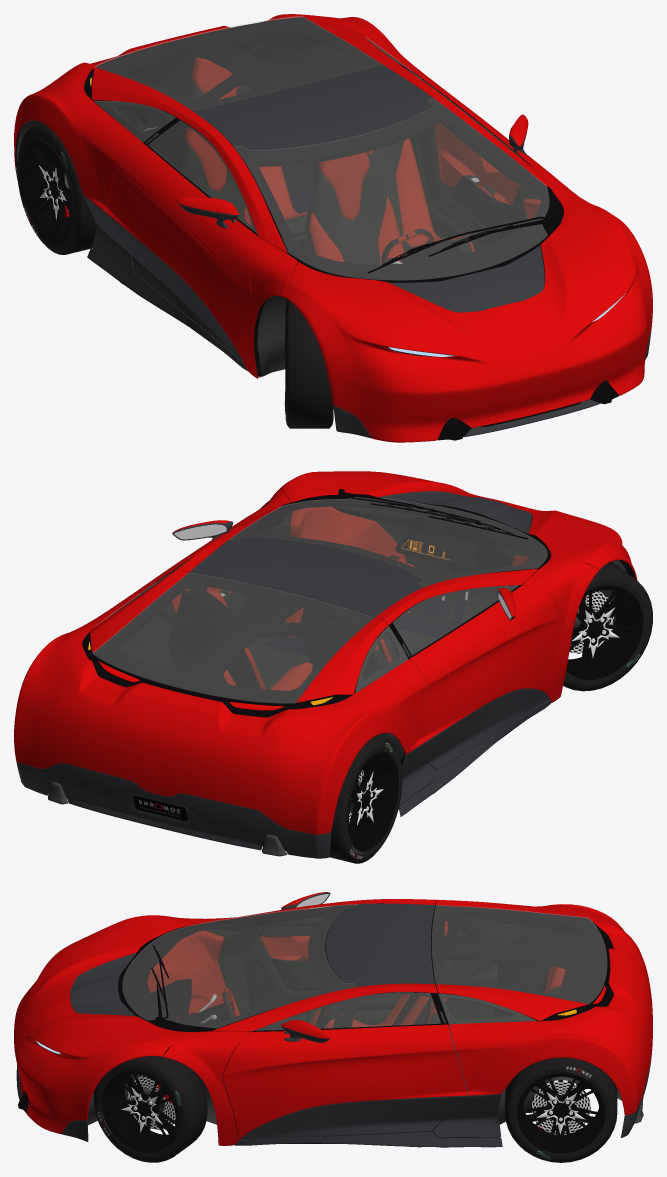
The model's file is CarConcept.glb.
3 renders of one model, top to bottom at view 1: azimuth 30°, elevation 25°; view 2: azimuth 150°, elevation 25°; view 3: azimuth 270°, elevation 25°, orthographic. The views are drawn at different scales.
Parts seen in each view (by area): view 1: BodyRearPanelsColor1, BodyWindshield, BodyWindshieldGasket, BodyRoofPanel, InteriorDashSides, InteriorDashMid, InteriorSeatsColor2, object 21, WheelFrontLRim, BodyUnderside, InteriorMid, InteriorSteeringDash; view 2: BodyRearPanelsColor1, BodyWindshield, BodyRoofPanel, BodyWindshieldGasket, InteriorDashMid, WheelFrontLRim, object 21, InteriorDashSides, InteriorSeatsColor2, InteriorFloormats, InteriorSteeringDash, BodyUnderside (+3 smaller); view 3: BodyRearPanelsColor1, BodyWindshield, BodyRoofPanel, BodyWindshieldGasket, object 21, WheelFrontLRim, InteriorDashMid, InteriorDashSides, InteriorMid, WheelFrontLBrakeDisc, BodyUnderside, InteriorSeatsColor2 (+1 smaller).
Boxes of the visible parts, x1,y1,x2,y2 form: BodyRearPanelsColor1: (14, 14, 652, 442); BodyWindshield: (94, 16, 549, 280); BodyWindshieldGasket: (16, 17, 618, 440); BodyRoofPanel: (15, 65, 651, 438); InteriorDashSides: (185, 57, 540, 349); InteriorDashMid: (15, 33, 526, 281); InteriorSeatsColor2: (180, 78, 472, 264); object 21: (17, 124, 333, 428); WheelFrontLRim: (20, 140, 285, 414); BodyUnderside: (16, 78, 596, 430); InteriorMid: (93, 173, 557, 376); InteriorSteeringDash: (404, 239, 465, 263); BodyRearPanelsColor1: (14, 471, 637, 834); BodyWindshield: (92, 497, 547, 703); BodyRoofPanel: (16, 491, 550, 858); BodyWindshieldGasket: (82, 489, 635, 753); InteriorDashMid: (48, 502, 528, 850); WheelFrontLRim: (347, 585, 643, 851); object 21: (260, 501, 652, 863); InteriorDashSides: (171, 506, 528, 690); InteriorSeatsColor2: (246, 628, 437, 689); InteriorFloormats: (269, 598, 467, 659); InteriorSteeringDash: (395, 533, 462, 566); BodyUnderside: (48, 560, 626, 856); BodyRearPanelsColor1: (14, 892, 652, 1145); BodyWindshield: (122, 904, 606, 1030); BodyRoofPanel: (16, 892, 652, 1147); BodyWindshieldGasket: (18, 901, 613, 1143); object 21: (93, 1054, 617, 1162); WheelFrontLRim: (102, 1070, 605, 1153); InteriorDashMid: (118, 908, 613, 1030); InteriorDashSides: (147, 921, 565, 1028); InteriorMid: (205, 921, 499, 1143); WheelFrontLBrakeDisc: (127, 1075, 590, 1134); BodyUnderside: (39, 927, 643, 1125); InteriorSeatsColor2: (304, 973, 560, 1028).
Size of the model in its own units: 2.54 by 1.15 by 4.36.
23 materials, 18 textured.
